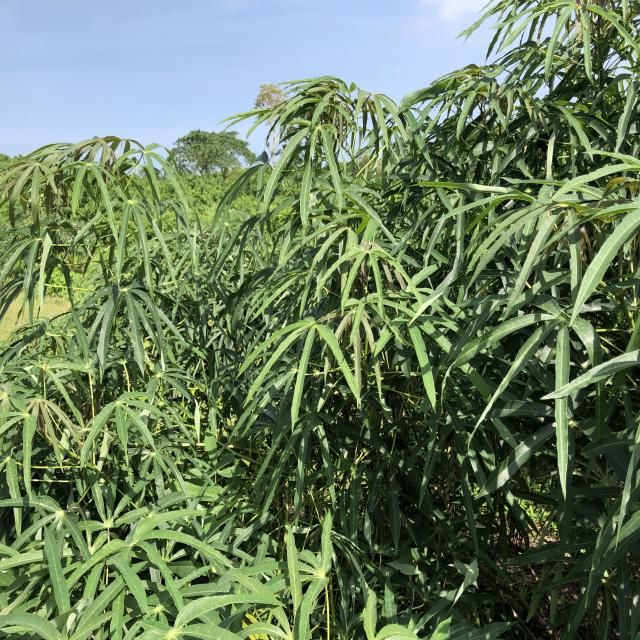Mosca: (561, 545, 571, 563), (575, 545, 588, 554)
